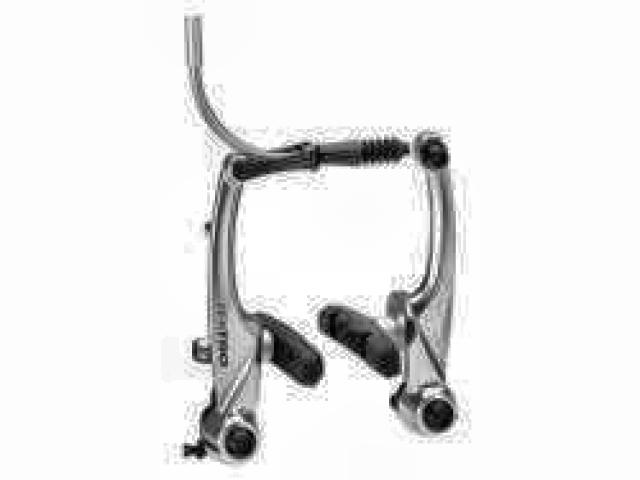rim_brake: (191, 131, 461, 466)
